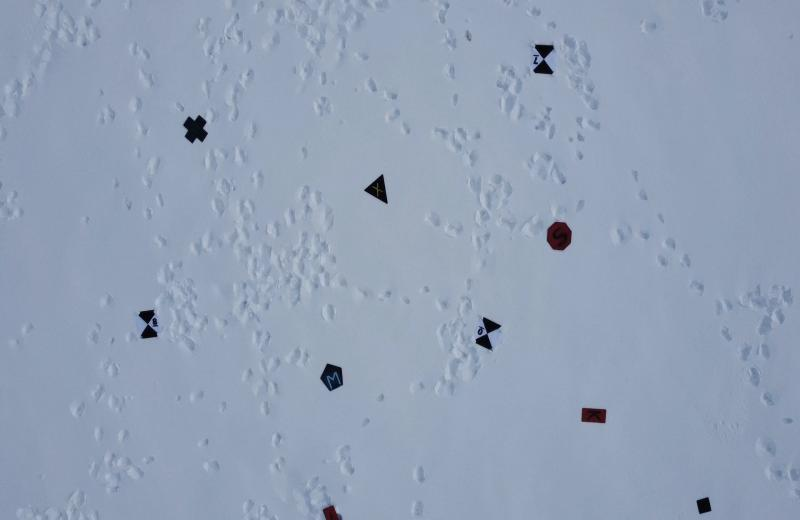Cross: (178, 112, 210, 146)
Octagon: (546, 220, 576, 257)
Pentagon: (318, 362, 347, 396)
Rectangle: (576, 396, 607, 429)
Square: (693, 492, 717, 517)
Triangle: (362, 175, 395, 209)
